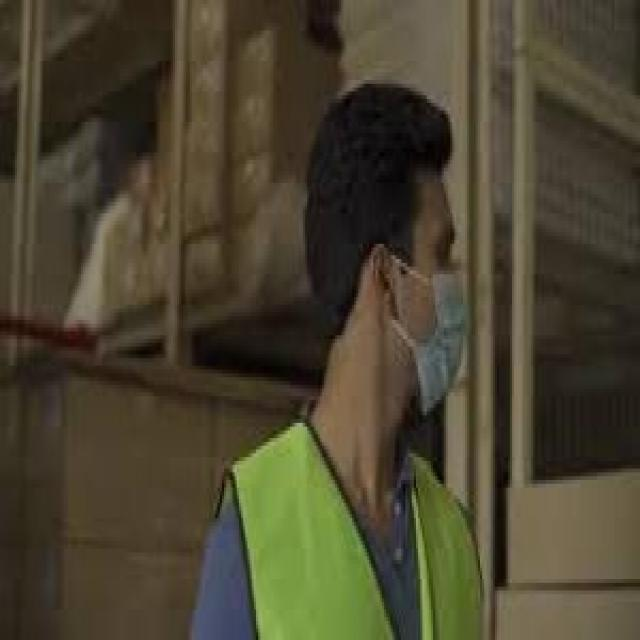Reflective-Jacket: (205, 407, 512, 640)
